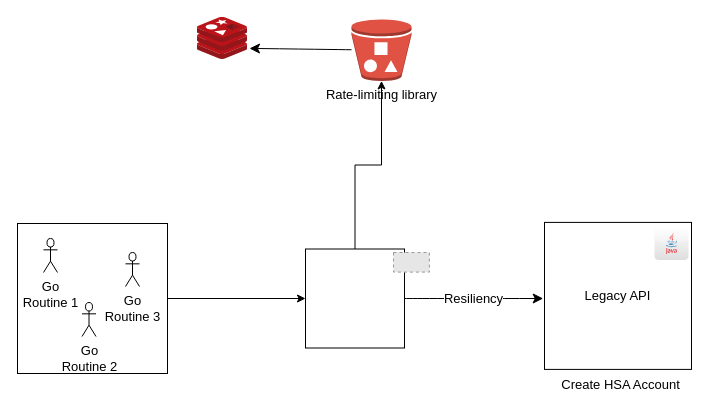
Some shapes in this 709 by 416 pixel diagram are drawn without their labels. Grey dashed boxes stand in for pictures. The centre of each missing label's shape, as x and y in pixels:
"HTTP Binding" belongs at pixel 354 298.
"Token-Bucket State" belongs at pixel 222 38.
